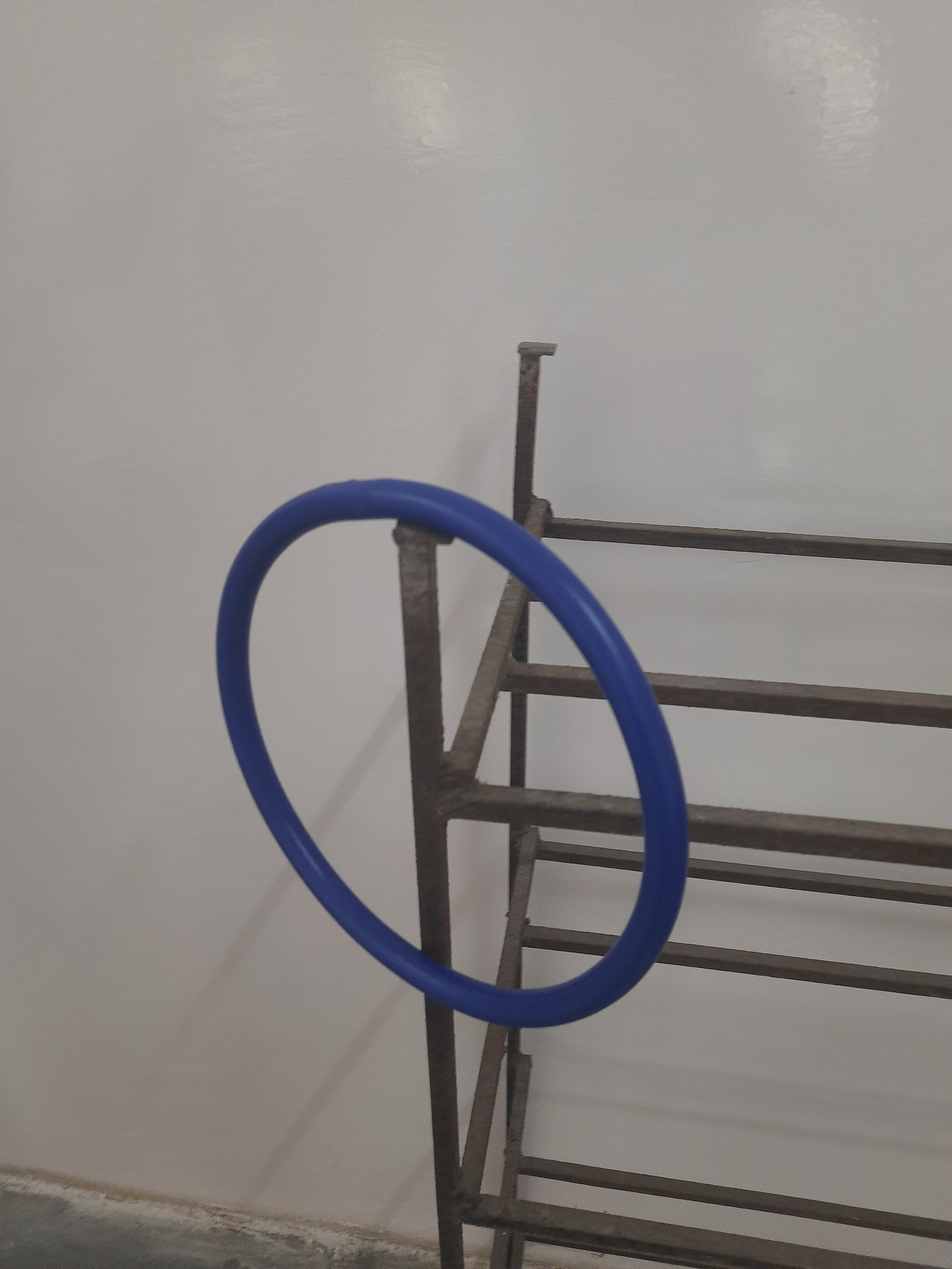Blue ring: (209, 474, 688, 1023)
